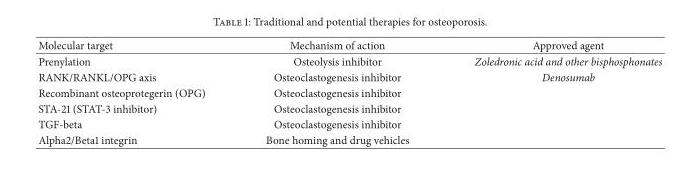table: (37, 37, 661, 147)
table column: (441, 37, 661, 147), (234, 37, 441, 147), (37, 37, 234, 147)
table column header: (37, 37, 661, 52)
table row: (37, 52, 661, 68), (37, 68, 661, 84), (37, 84, 661, 100), (37, 115, 661, 131), (37, 131, 661, 147), (37, 37, 661, 52), (37, 100, 661, 115)
